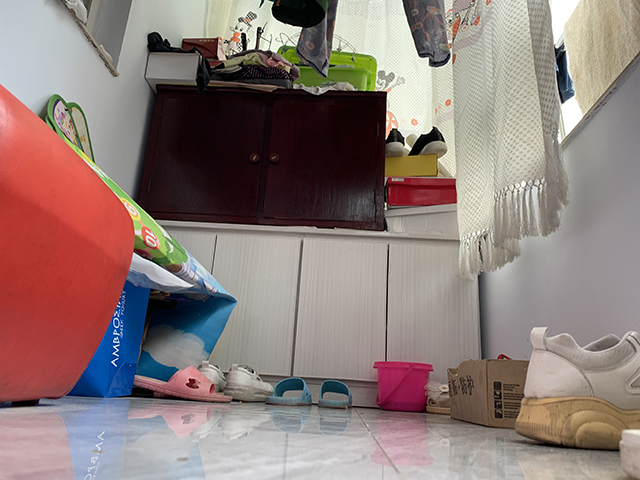cabinet: (146, 216, 484, 415)
slippers: (132, 364, 234, 404), (263, 376, 311, 411), (317, 378, 354, 413)
